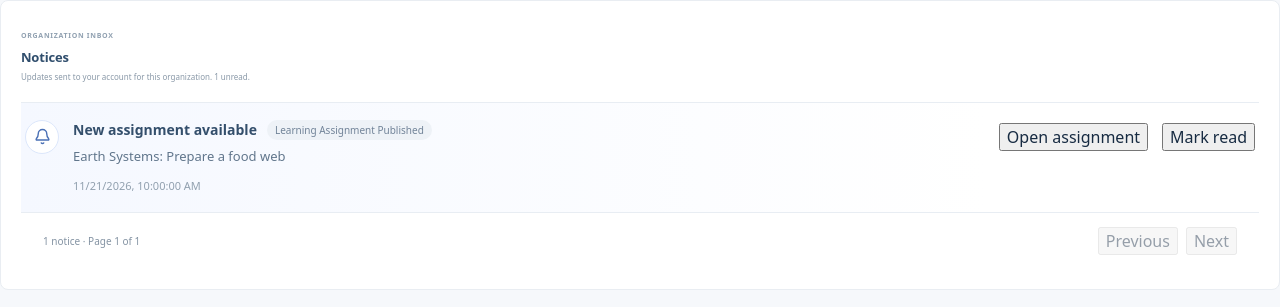
Test: NotificationInbox › marks a learning notice read before opening the resource destination
This screenshot has width=1280, height=307.
Click the button "Open assignment": (1073, 137) x1=999 y1=123 x2=1148 y2=151
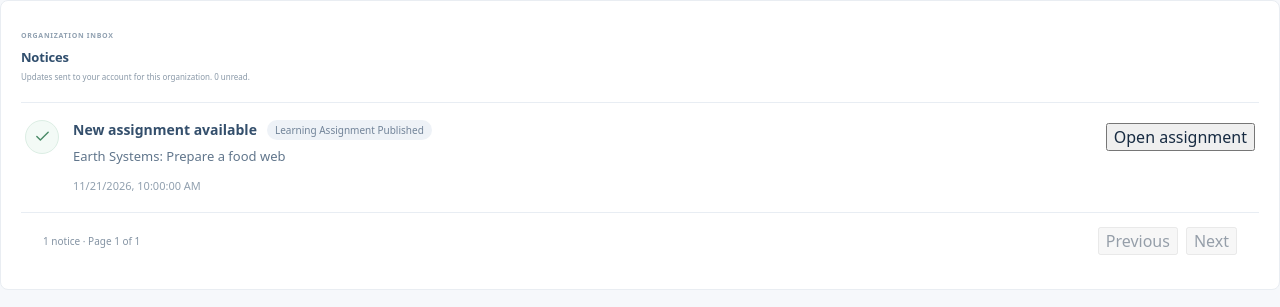
Now the text "0 unread." is shown, box x1=21 y1=71 x2=250 y2=84
